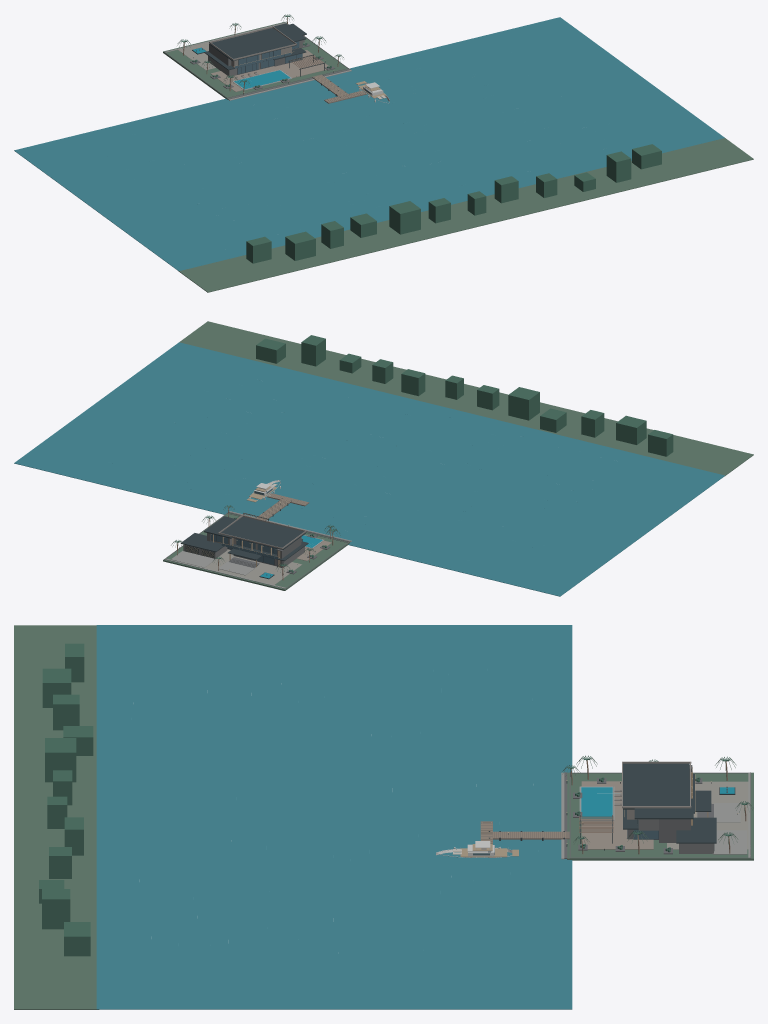
The model's file is mansion.glb.
3 renders of one model, top to bottom at view 1: azimuth 30°, elevation 25°; view 2: azimuth 150°, elevation 25°; view 3: azimuth 270°, elevation 25°, orthographic. The views are drawn at different scales.
Parts seen in each view (by area): view 1: lake_surface570, opposite_shore571, island0, roofline11, rear_terrace2, far_tree_mass830, far_tree_mass827, far_tree_mass836, far_tree_mass837, far_tree_mass826, far_tree_mass833, far_tree_mass828 (+3 smaller); view 2: lake_surface570, opposite_shore571, island0, roofline11, forecourt1, far_tree_mass830, far_tree_mass827, far_tree_mass836, far_tree_mass837, far_tree_mass826, far_tree_mass833, far_tree_mass828 (+3 smaller); view 3: lake_surface570, opposite_shore571, island0, roofline11, rear_terrace2, forecourt1, far_tree_mass830, far_tree_mass836, pool_water195, far_tree_mass827, far_tree_mass837, far_tree_mass828 (+9 smaller).
Part boxes in pixels (x1,y1,x2,y2): lake_surface570: (14,17,724,270); opposite_shore571: (178,138,753,292); island0: (163,22,348,99); roofline11: (209,28,296,61); rear_terrace2: (210,50,328,91); far_tree_mass830: (389,201,420,234); far_tree_mass827: (285,231,315,260); far_tree_mass836: (606,151,631,182); far_tree_mass837: (632,144,661,169); far_tree_mass826: (246,236,271,263); far_tree_mass833: (494,176,518,203); far_tree_mass828: (321,221,343,248); lake_surface570: (14,342,724,596); opposite_shore571: (179,321,753,476); island0: (163,513,349,590); roofline11: (221,517,306,549); forecourt1: (178,549,301,584); far_tree_mass830: (508,387,539,420); far_tree_mass827: (616,415,646,444); far_tree_mass836: (301,335,325,366); far_tree_mass837: (256,338,285,363); far_tree_mass826: (648,430,673,456); far_tree_mass833: (401,369,425,396); far_tree_mass828: (581,410,604,437); lake_surface570: (96,625,572,1009); opposite_shore571: (14,625,98,1009); island0: (567,772,753,860); roofline11: (623,763,689,809); rear_terrace2: (581,781,653,849); forecourt1: (667,781,748,849); far_tree_mass830: (45,738,76,782); far_tree_mass836: (42,889,70,929); pool_water195: (581,787,612,818); far_tree_mass827: (42,668,71,707); far_tree_mass837: (64,922,90,956); far_tree_mass828: (53,694,79,730).
Size of the model in its own units: 340 by 13.87 by 277.
